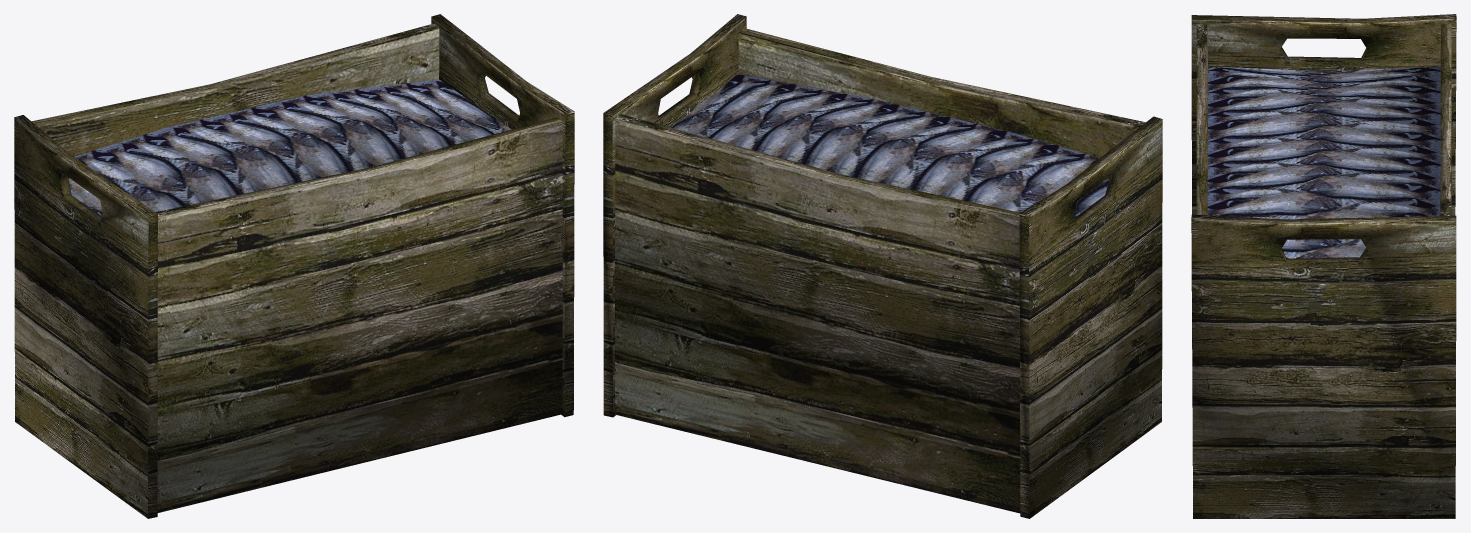
The model's file is ITMI_FISHCRATE_SMALL_02.glb.
The picture shows the model from 3 angles, left to right: view 1: azimuth 30°, elevation 25°; view 2: azimuth 150°, elevation 25°; view 3: azimuth 270°, elevation 25°; orthographic projection.
Visible parts, largest first — view 1: Mesh; view 2: Mesh; view 3: Mesh.
Part boxes in pixels (<box>): Mesh: <box>14,14,574,518</box>; Mesh: <box>603,14,1162,518</box>; Mesh: <box>1191,14,1456,518</box>.
Bounding box in the file's own units: 0.6693 × 0.4562 × 0.3655.
2 materials, 2 textured.
